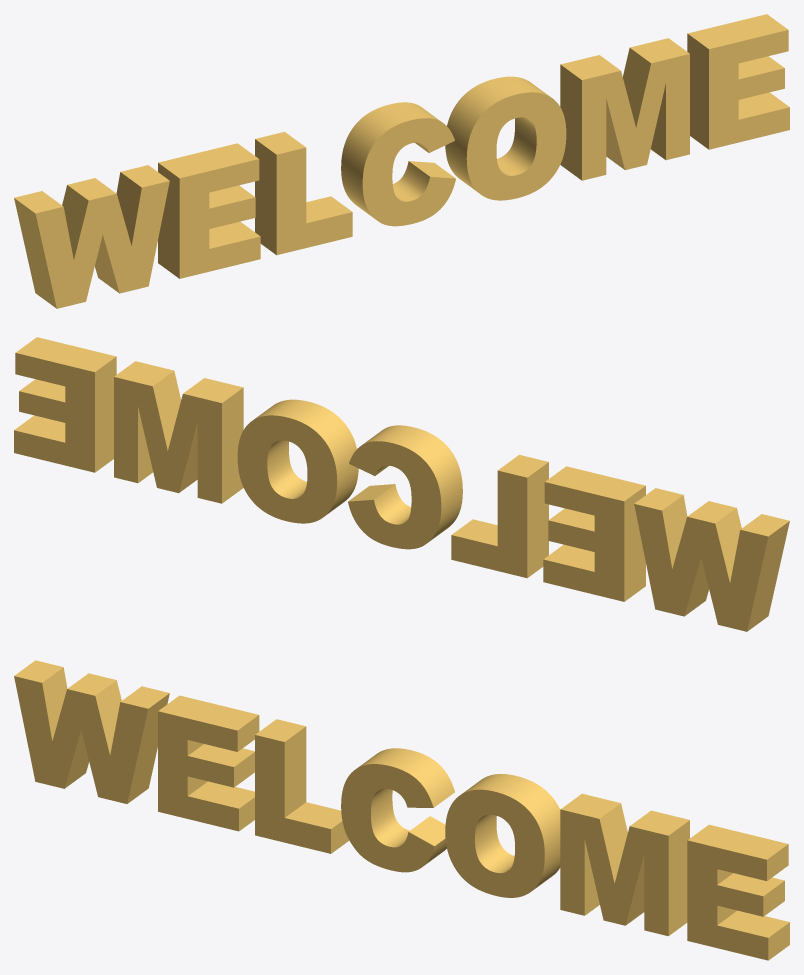
The model's file is interactive-text.glb.
3 views of the same model, one above another, from view 1: azimuth 30°, elevation 25°; view 2: azimuth 150°, elevation 25°; view 3: azimuth 330°, elevation 25° (orthographic).
Visible parts, largest first — view 1: InteractiveText; view 2: InteractiveText; view 3: InteractiveText.
Part boxes in pixels (x1,y1,x2,y2): InteractiveText: [14, 14, 789, 308]; InteractiveText: [14, 337, 789, 631]; InteractiveText: [14, 660, 789, 960].
Size of the model in its own units: 2.02 by 0.2664 by 0.1.
